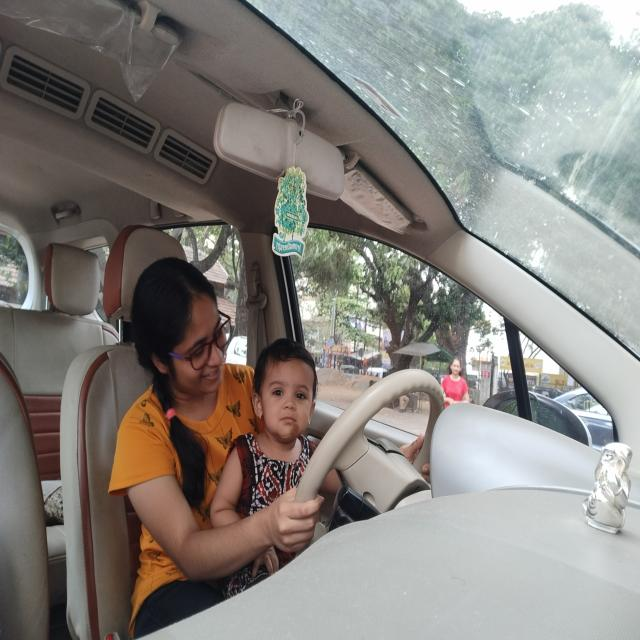child: (253, 338, 320, 450)
person: (128, 253, 238, 416)
